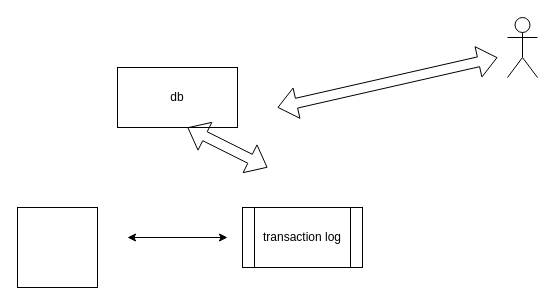
The diagram is 555 pixels wide and 305 high, and some of its shapes have lost their labels. The shapes that lost their labels are listed below. From the top down, each one's centre as x and y in pixels, then its label:
At (522,47): "Actor".
At (57,247): "Btree".
